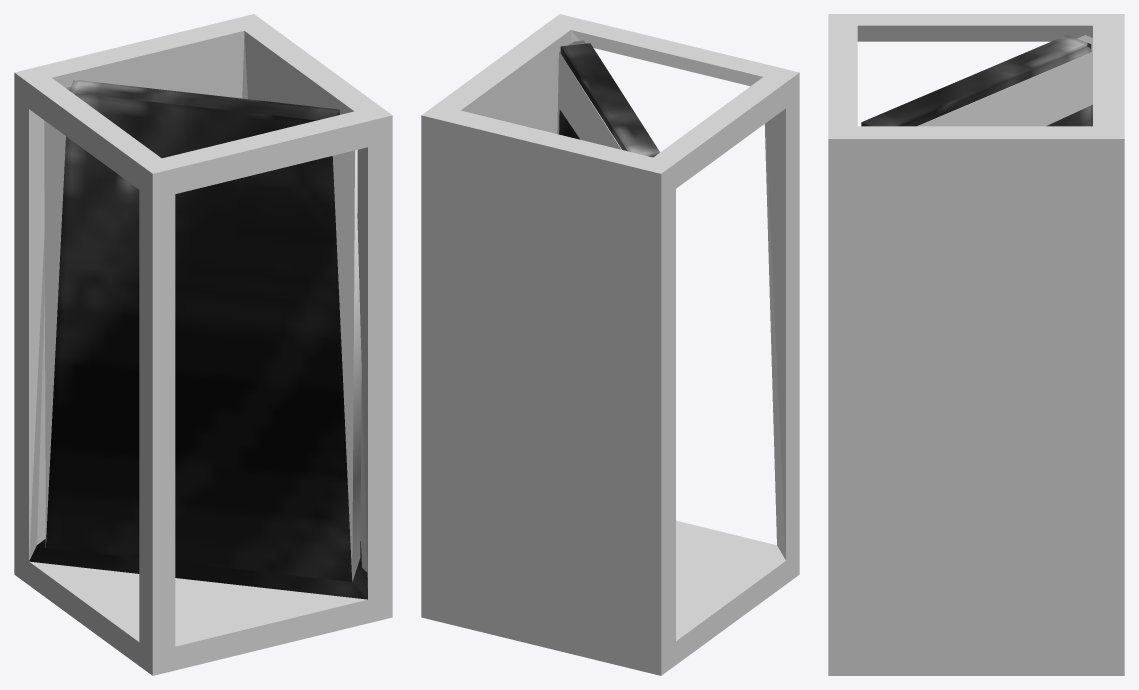
Rendered from Rectube.fbx.
3 views of the same model, side by side, from view 1: azimuth 30°, elevation 25°; view 2: azimuth 150°, elevation 25°; view 3: azimuth 270°, elevation 25° (orthographic). The views are drawn at different scales.
Visible parts, largest first — view 1: Cube_phys, Cube_col, reflect_col; view 2: Cube_col, Cube_phys, reflect_col; view 3: Cube_col, reflect_col, Cube_phys.
Boxes of the visible parts, left/top/right/bottom form: Cube_phys: left=29, top=80, right=367, bottom=599; Cube_col: left=14, top=14, right=392, bottom=675; reflect_col: left=44, top=87, right=361, bottom=581; Cube_col: left=421, top=14, right=799, bottom=675; Cube_phys: left=559, top=43, right=659, bottom=157; reflect_col: left=557, top=40, right=621, bottom=149; Cube_col: left=828, top=14, right=1124, bottom=675; reflect_col: left=917, top=35, right=1092, bottom=126; Cube_phys: left=861, top=35, right=1092, bottom=126.
Bounding box in the file's own units: 200 × 400 × 200.
